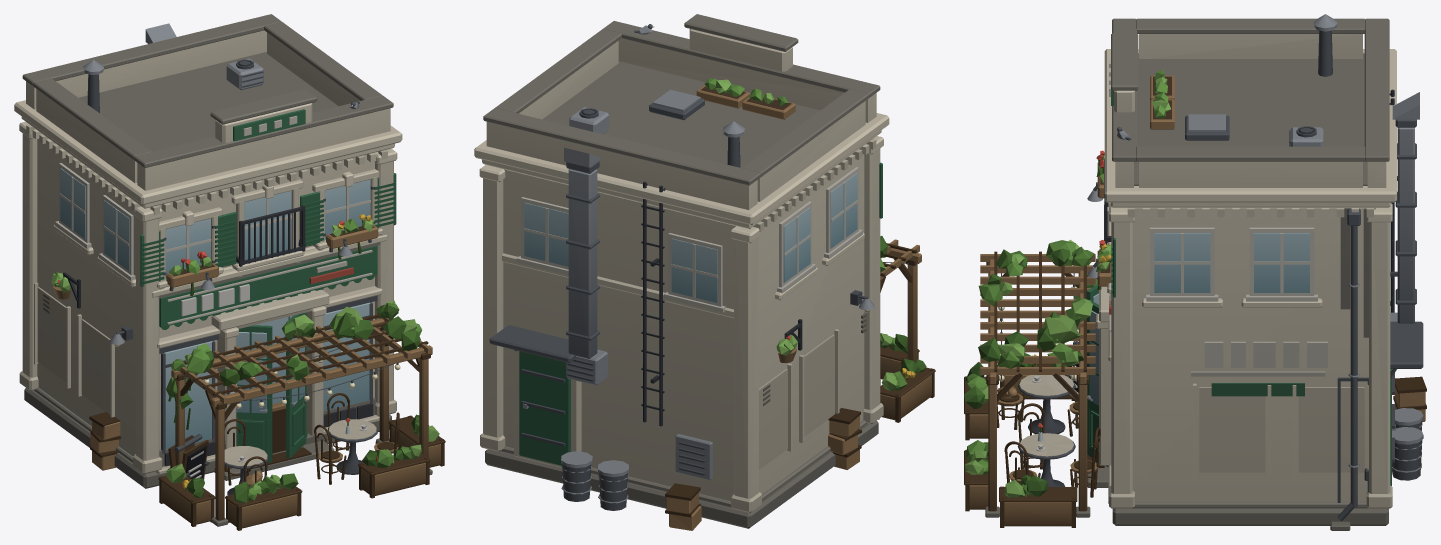
Rendered from cafe_terrace_01.glb.
3 views of the same model, side by side, from view 1: azimuth 30°, elevation 25°; view 2: azimuth 150°, elevation 25°; view 3: azimuth 270°, elevation 25° (orthographic). The views are drawn at different scales.
Parts seen in each view (by area): view 1: cafe_terrace_01; view 2: cafe_terrace_01; view 3: cafe_terrace_01.
Boxes of the visible parts, left/top/right/bottom form: cafe_terrace_01: left=14, top=14, right=445, bottom=530; cafe_terrace_01: left=474, top=14, right=935, bottom=530; cafe_terrace_01: left=964, top=14, right=1426, bottom=530.
Size of the model in its own units: 5.7 by 7.09 by 7.44.
